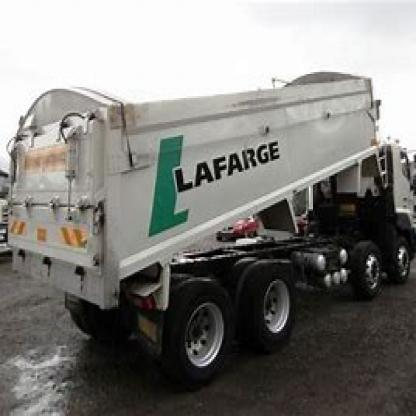dump_truck: (13, 57, 414, 390)
